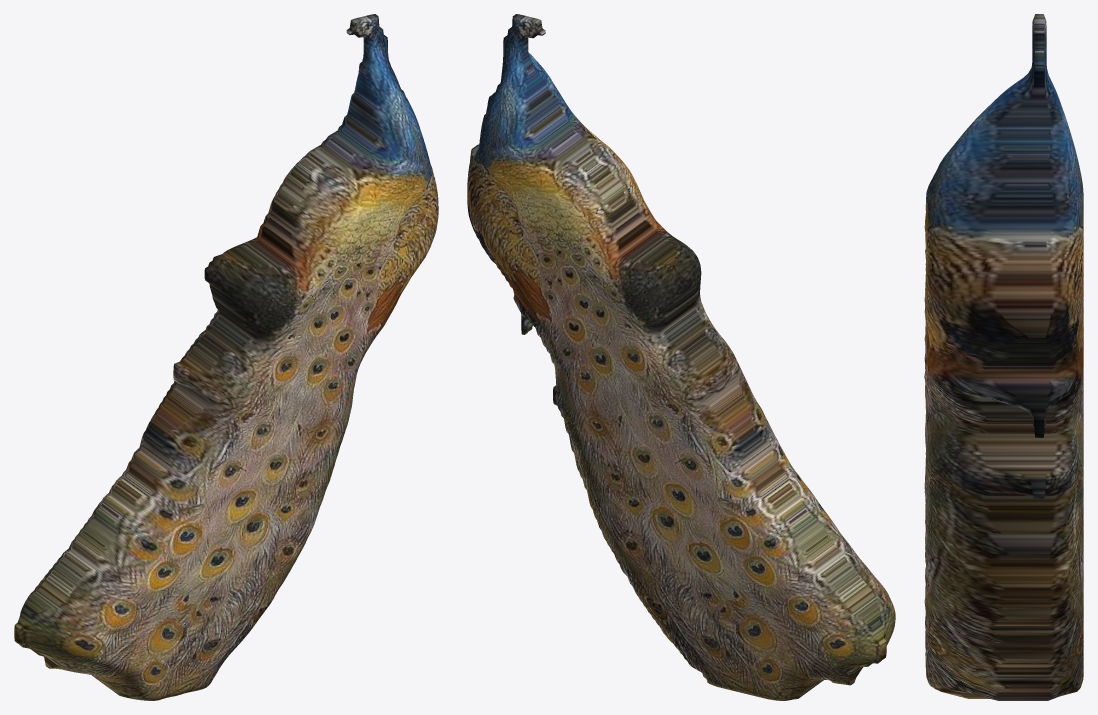
Rendered from eden-peacock.glb.
3 renders of one model, left to right at view 1: azimuth 30°, elevation 25°; view 2: azimuth 150°, elevation 25°; view 3: azimuth 270°, elevation 25°, orthographic. The views are drawn at different scales.
Visible parts, largest first — view 1: eden-peacock; view 2: eden-peacock; view 3: eden-peacock.
Boxes of the visible parts, x1=… form: eden-peacock: x1=14, y1=14, x2=438, y2=700; eden-peacock: x1=467, y1=14, x2=895, y2=700; eden-peacock: x1=924, y1=14, x2=1083, y2=700.
Size of the model in its own units: 1.29 by 1.84 by 0.3317.
Materials: 1 (1 with a texture image).
